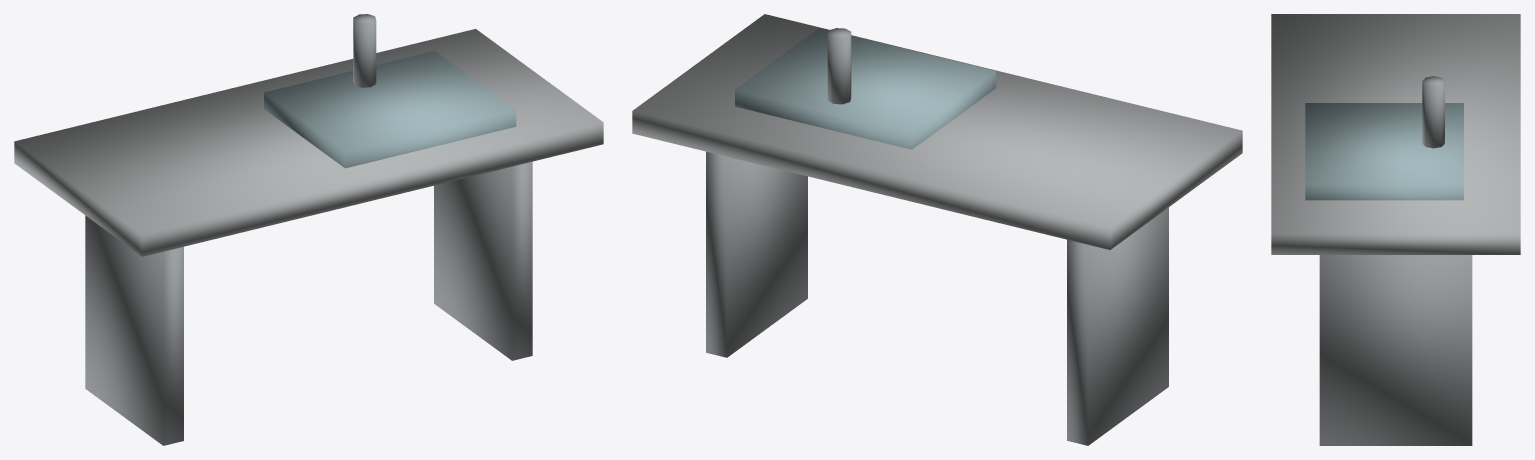
File: lab_sink_bench__squat.glb
3 views of the same model, side by side, from view 1: azimuth 30°, elevation 25°; view 2: azimuth 150°, elevation 25°; view 3: azimuth 270°, elevation 25° (orthographic). The views are drawn at different scales.
Visible parts, largest first — view 1: world; view 2: world; view 3: world.
Part boxes in pixels (left/top/right/bottom): world: left=14, top=14, right=603, bottom=445; world: left=632, top=14, right=1242, bottom=445; world: left=1271, top=14, right=1520, bottom=445.
Bounding box in the file's own units: 1.49 × 0.987 × 0.7128.
